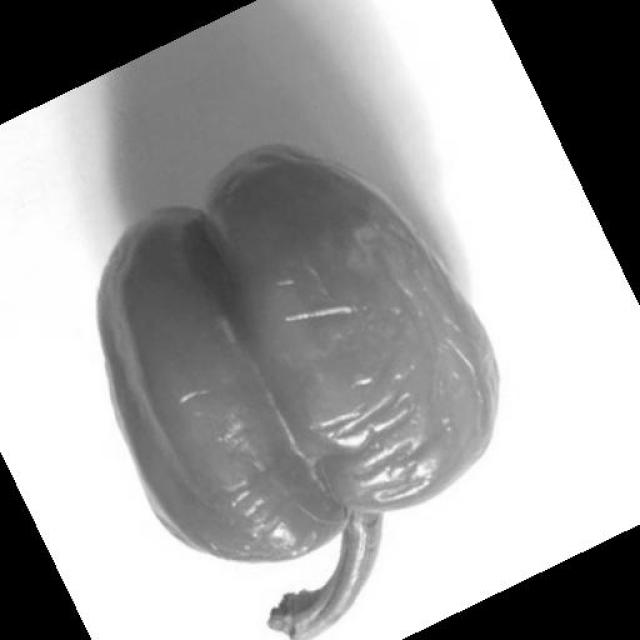Stale_Capsicum: (138, 156, 560, 582)
